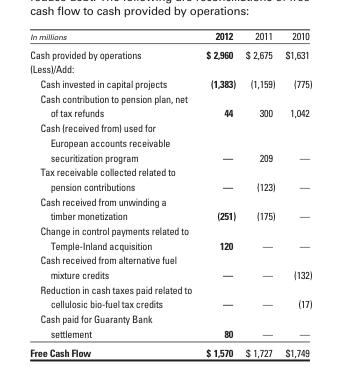table: (29, 29, 311, 358)
table column: (29, 29, 198, 358), (198, 29, 240, 358), (240, 29, 279, 358), (279, 29, 311, 358)
table column header: (29, 29, 311, 44)
table projected row header: (29, 61, 311, 75)
table row: (29, 120, 311, 164), (29, 310, 311, 342), (29, 90, 311, 120), (29, 222, 311, 252), (29, 164, 311, 193), (29, 193, 311, 222), (29, 252, 311, 281), (29, 281, 311, 310), (29, 44, 311, 61), (29, 342, 311, 358), (29, 29, 311, 44), (29, 75, 311, 90), (29, 61, 311, 75)
